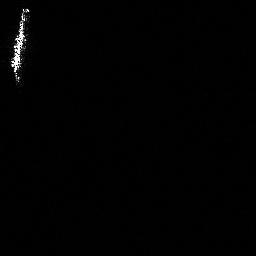ship: (6, 6, 32, 86)
